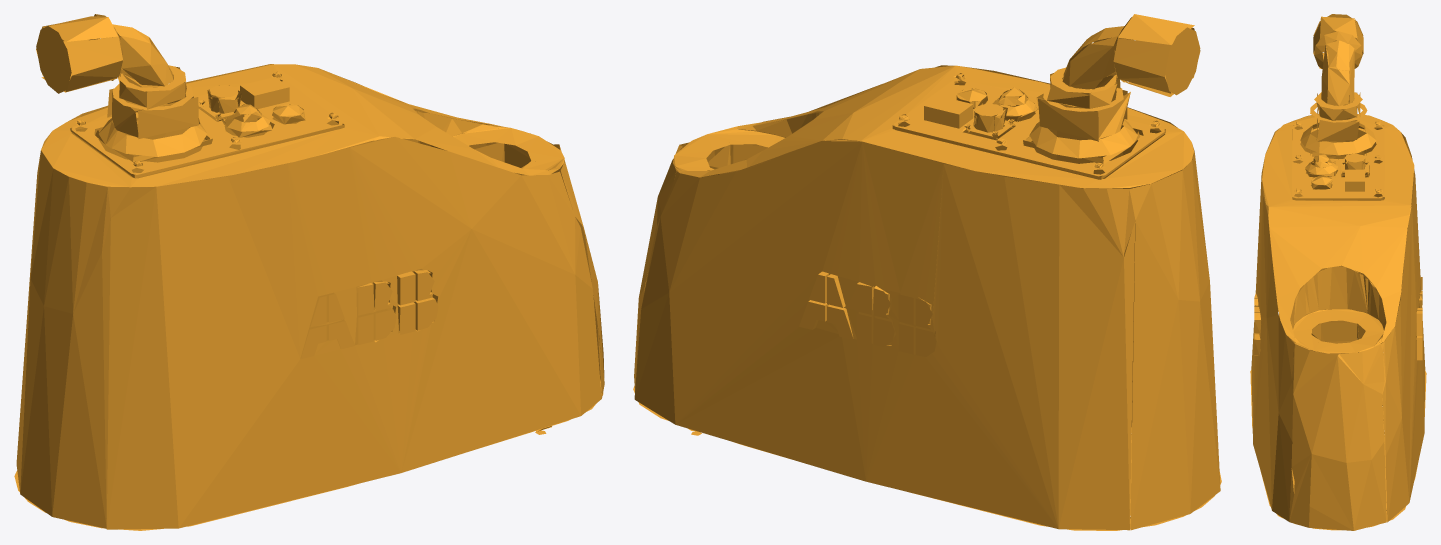
The model's file is ABBIRB910SCLink2.dae.
3 renders of one model, left to right at view 1: azimuth 30°, elevation 25°; view 2: azimuth 150°, elevation 25°; view 3: azimuth 270°, elevation 25°, orthographic. The views are drawn at different scales.
Visible parts, largest first — view 1: IRB_910scLink2; view 2: IRB_910scLink2; view 3: IRB_910scLink2.
Boxes of the visible parts, x1,y1,x2,y2 form: IRB_910scLink2: (14,14,604,530); IRB_910scLink2: (633,14,1221,530); IRB_910scLink2: (1250,14,1426,530).
Size of the model in its own units: 0.4132 by 0.1592 by 0.3445.
